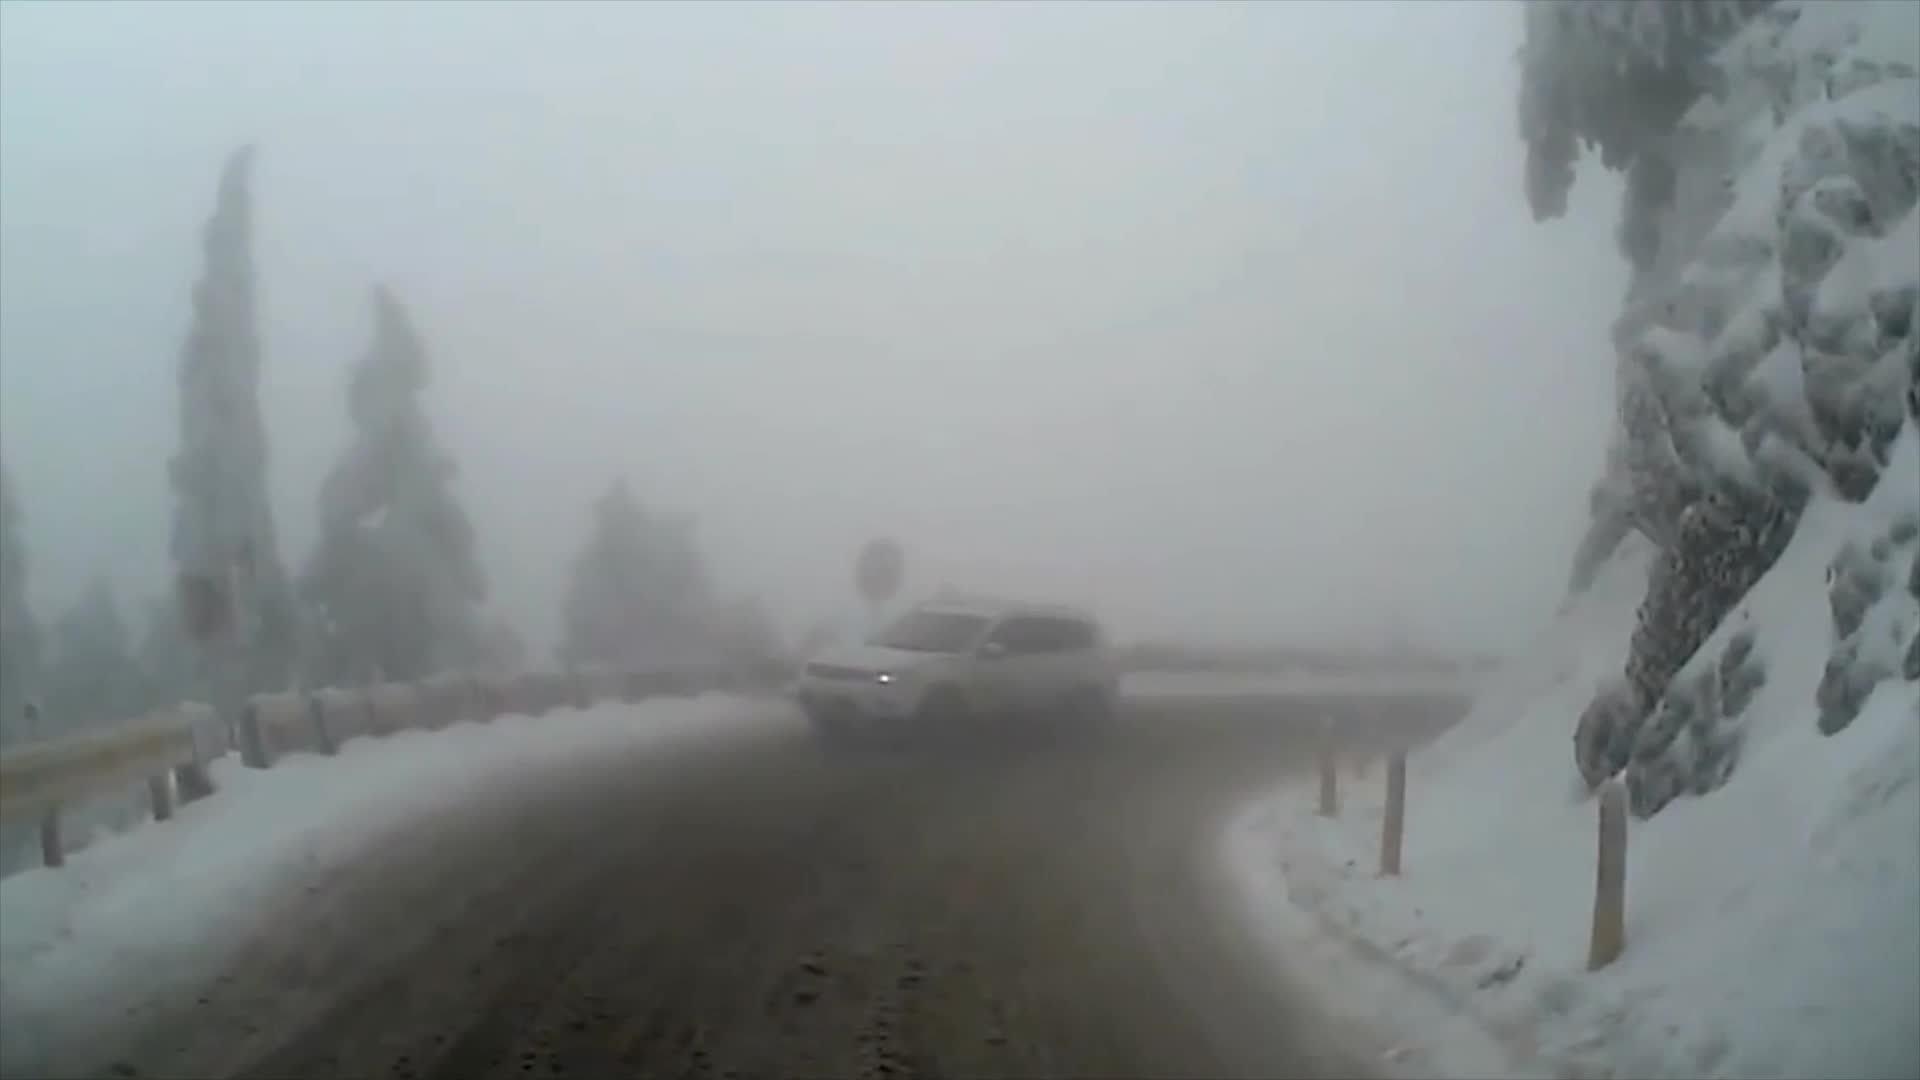vehicle: (796, 592, 1117, 761)
